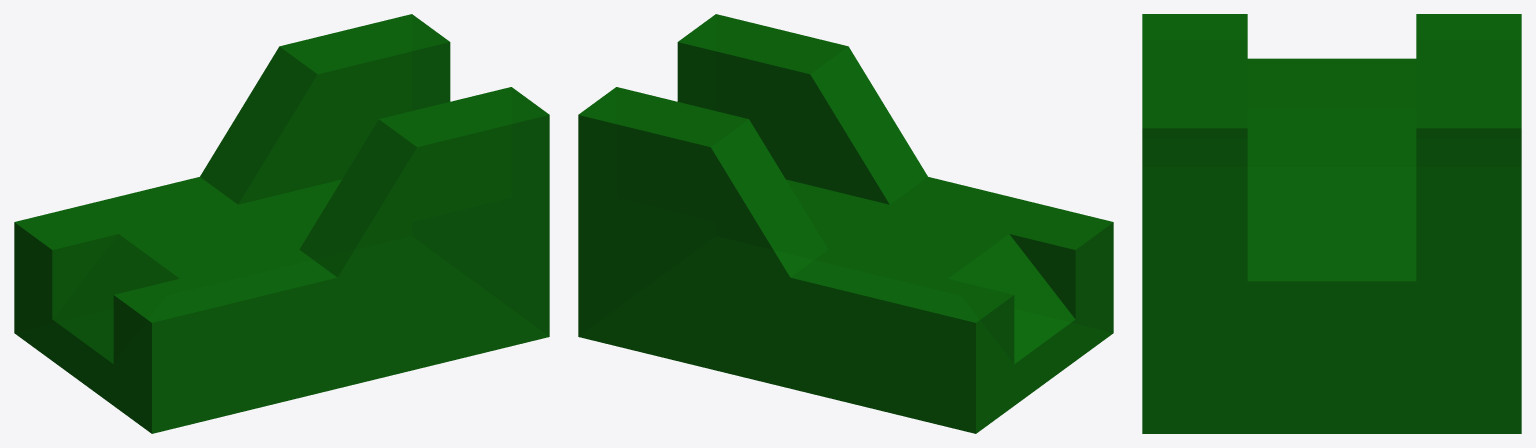
3 views of the same model, side by side, from view 1: azimuth 30°, elevation 25°; view 2: azimuth 150°, elevation 25°; view 3: azimuth 270°, elevation 25° (orthographic). The views are drawn at different scales.
Visible parts, largest first — view 1: SketchUp; view 2: SketchUp; view 3: SketchUp.
Part boxes in pixels (x1,y1,x2,y2): SketchUp: [14, 14, 549, 433]; SketchUp: [578, 14, 1113, 433]; SketchUp: [1142, 14, 1521, 433].
Bounding box in the file's own units: 1181 × 709 × 630.
